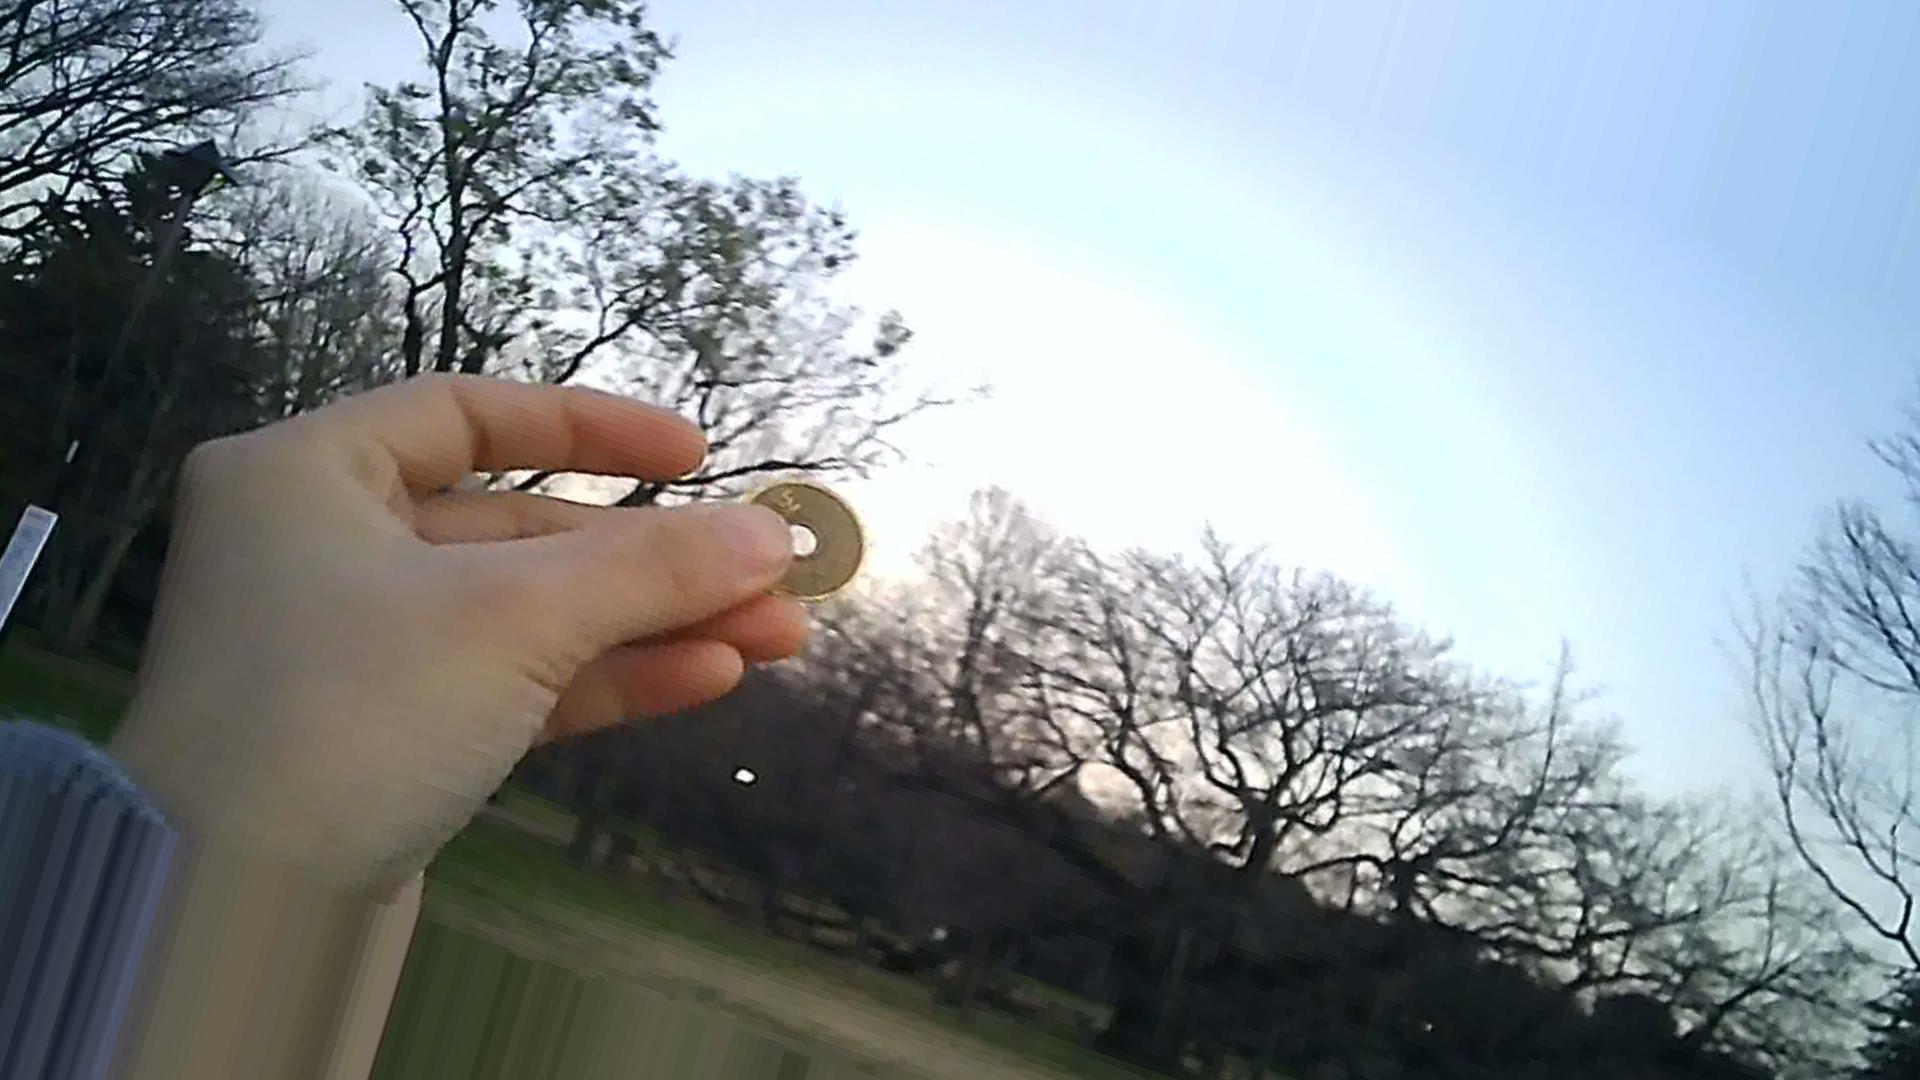5 Yen: (724, 473, 855, 616)
